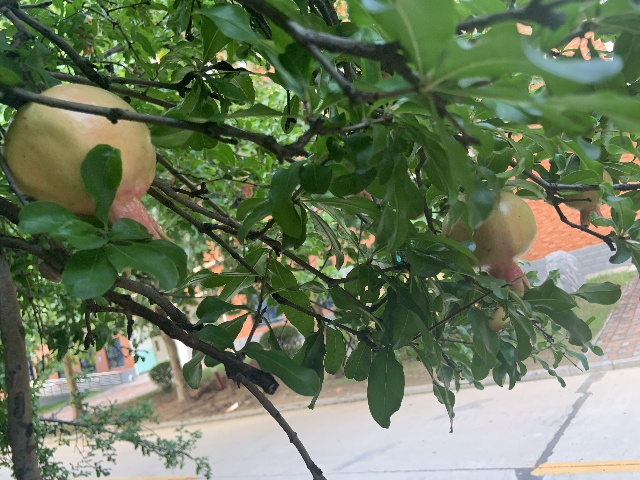mid-growth: (2, 84, 171, 243), (441, 189, 536, 298), (74, 16, 100, 53)
